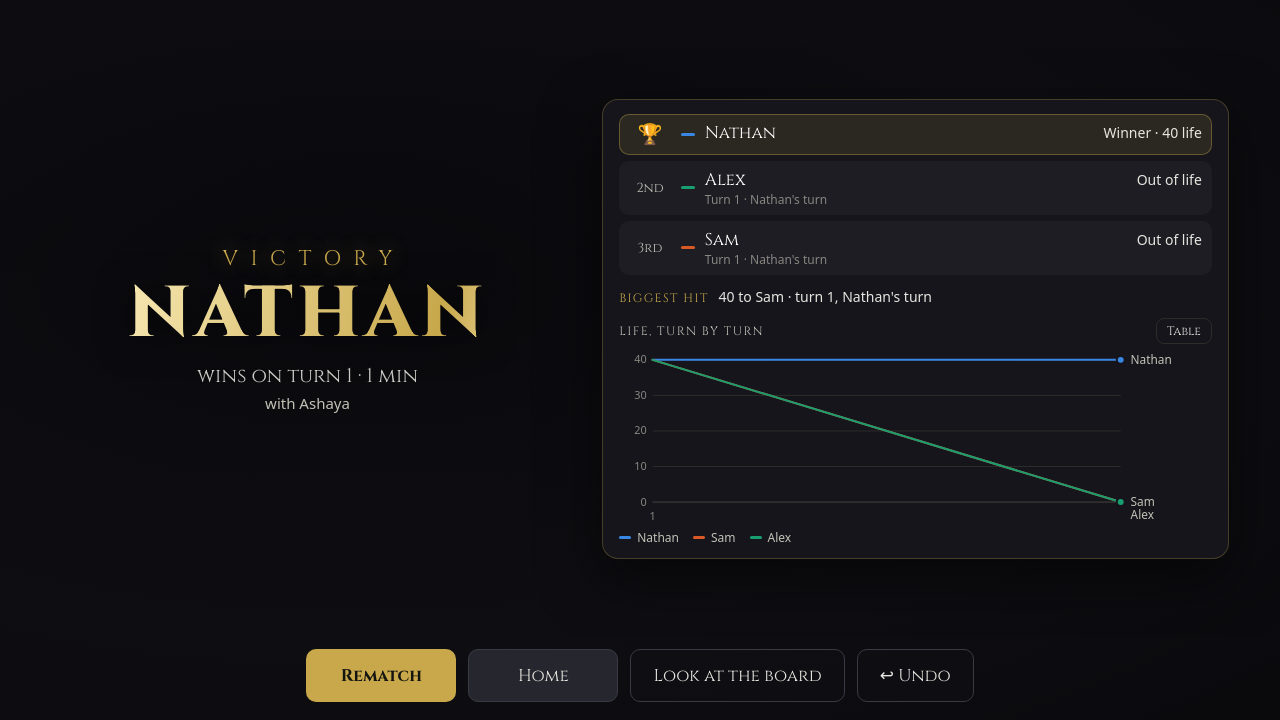
it: the victory screen › Look at the board puts it away, and the pill brings it back
Click the button "Look at the board". click: (738,676)
box: left=630, top=649, right=845, bottom=702
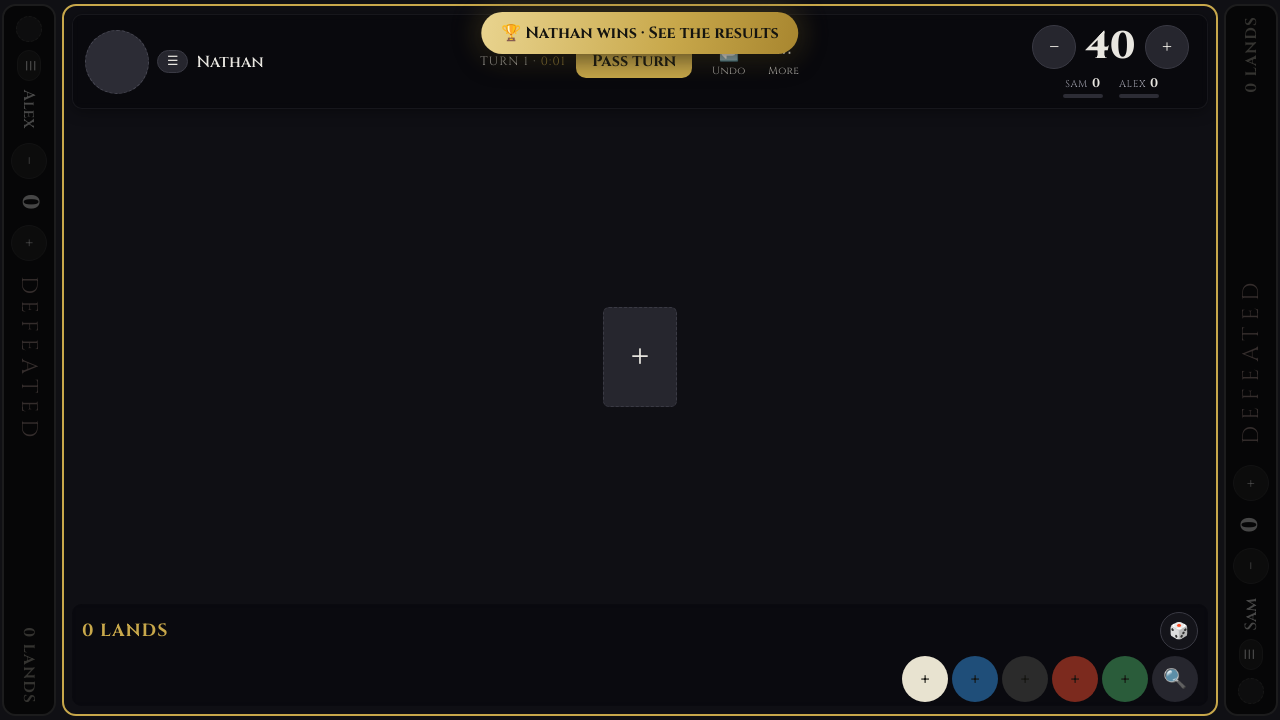
Click the button "🏆 Nathan wins · See the results". click: (640,33)
box: left=481, top=12, right=799, bottom=54
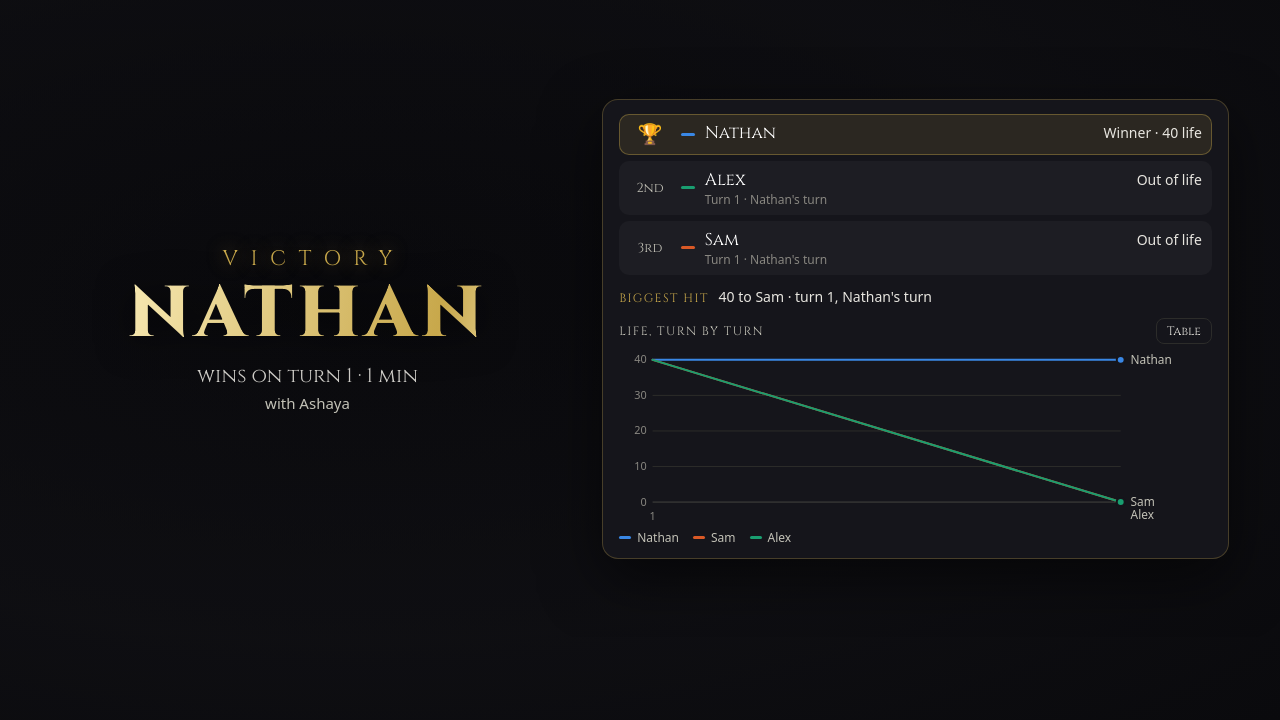
Result: the dialog named "Game over" is shown
